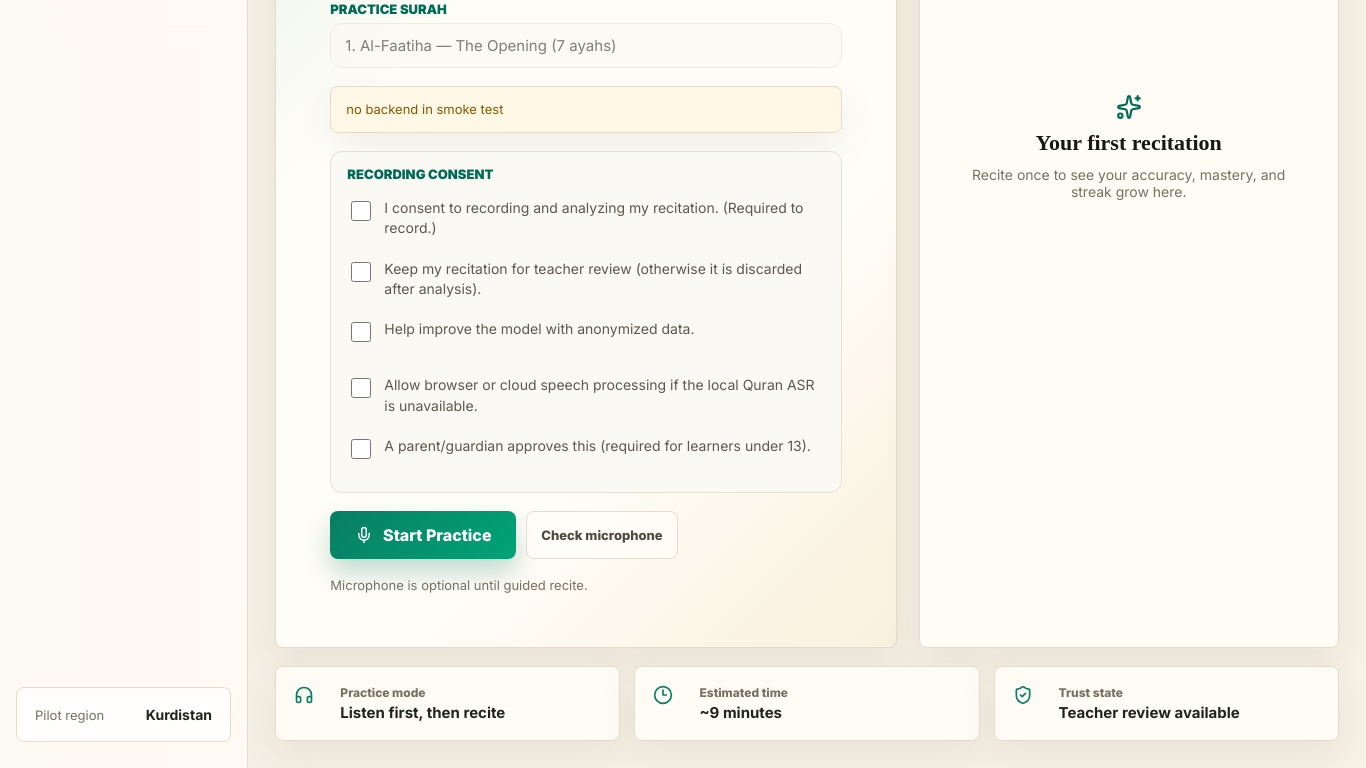
Test: Quran AI app smoke › tapping Record without consent shows inline consent at the point of failure, not a dead end
(page scrolled)
Click the button "Start Practice": (423, 535) [330,511,516,559]
(page scrolled)
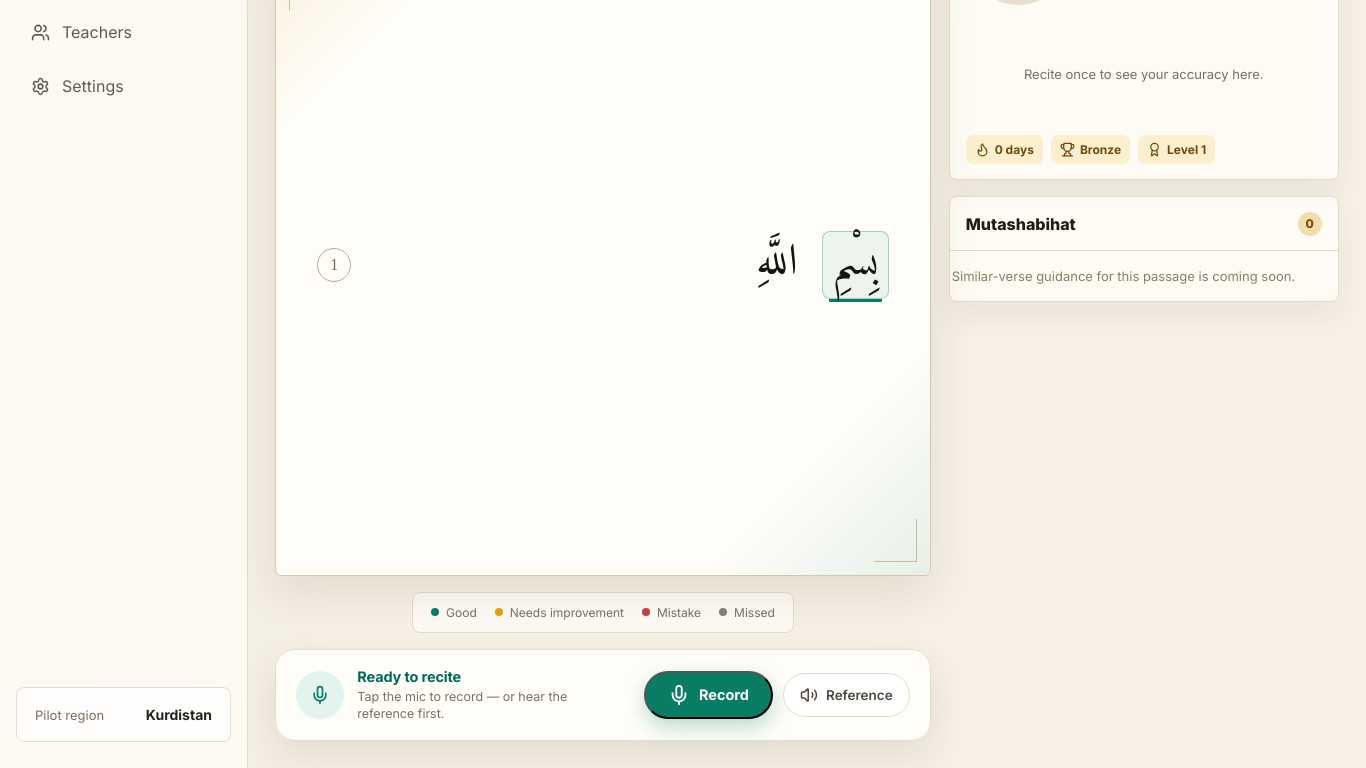
Click the button with aria-label "Record your recitation": (708, 695) [644,671,773,719]
(page scrolled)
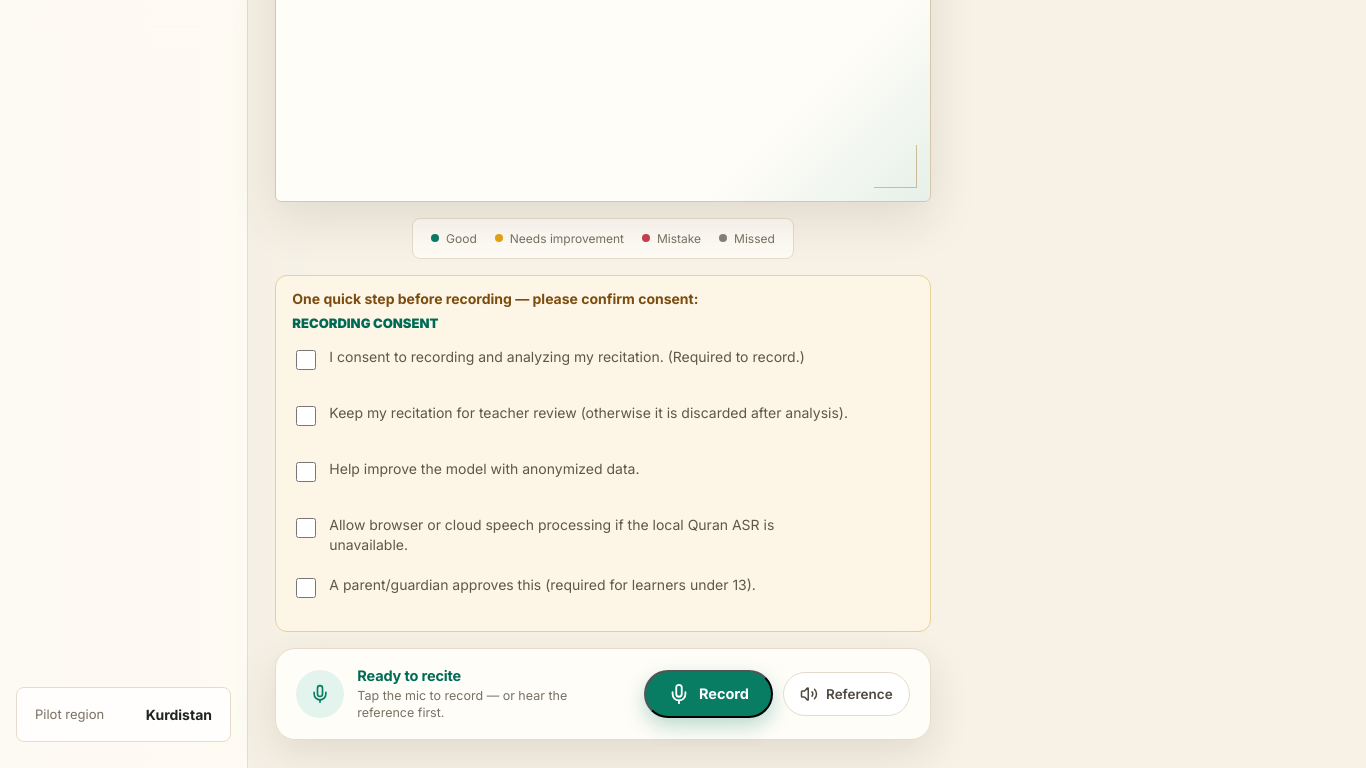
expect the message with class "inline-consent" is shown: met, box [275,275,931,632]
# Ticking the required recording-consent box auto-dismisses the prompt (no return to home).
Click the 1st checkbox: (306, 360) [296,350,316,370]
(page scrolled)
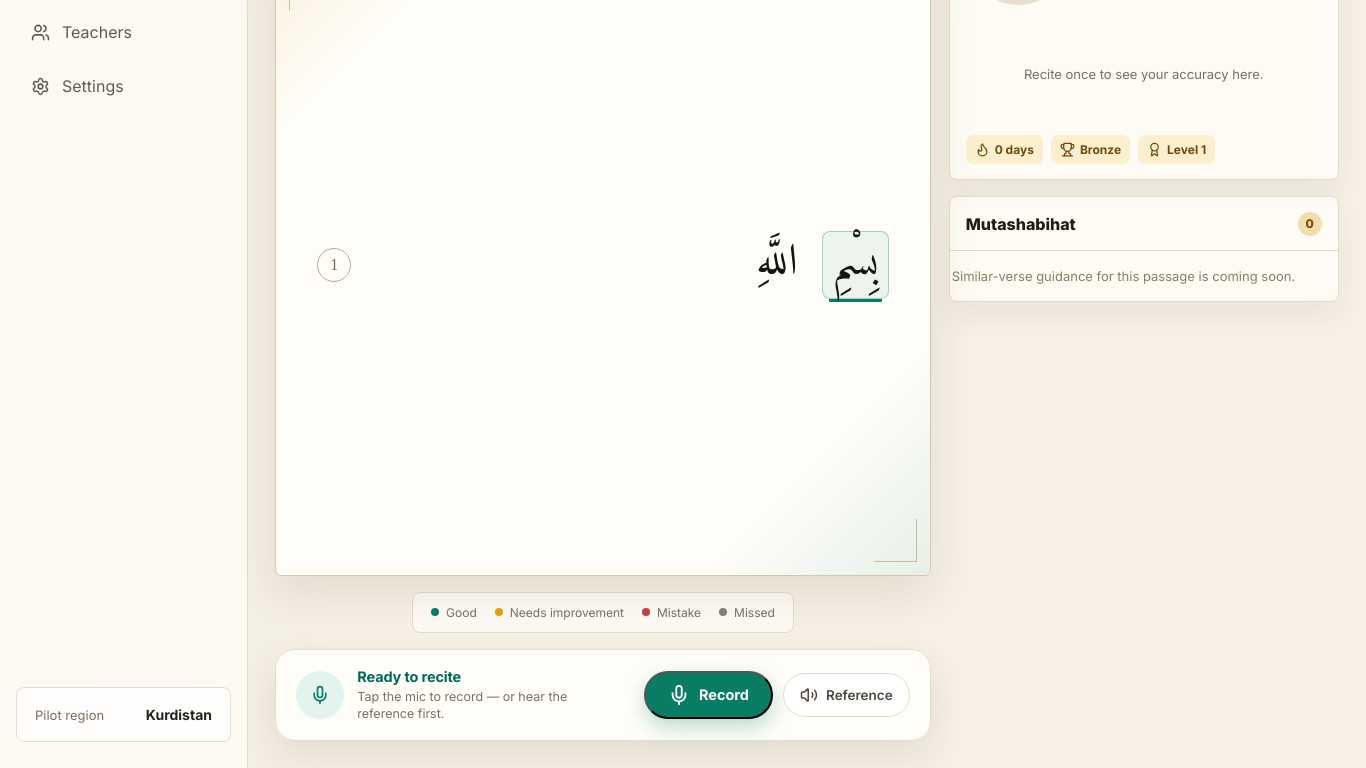
expect the message with class "inline-consent" is gone: met
